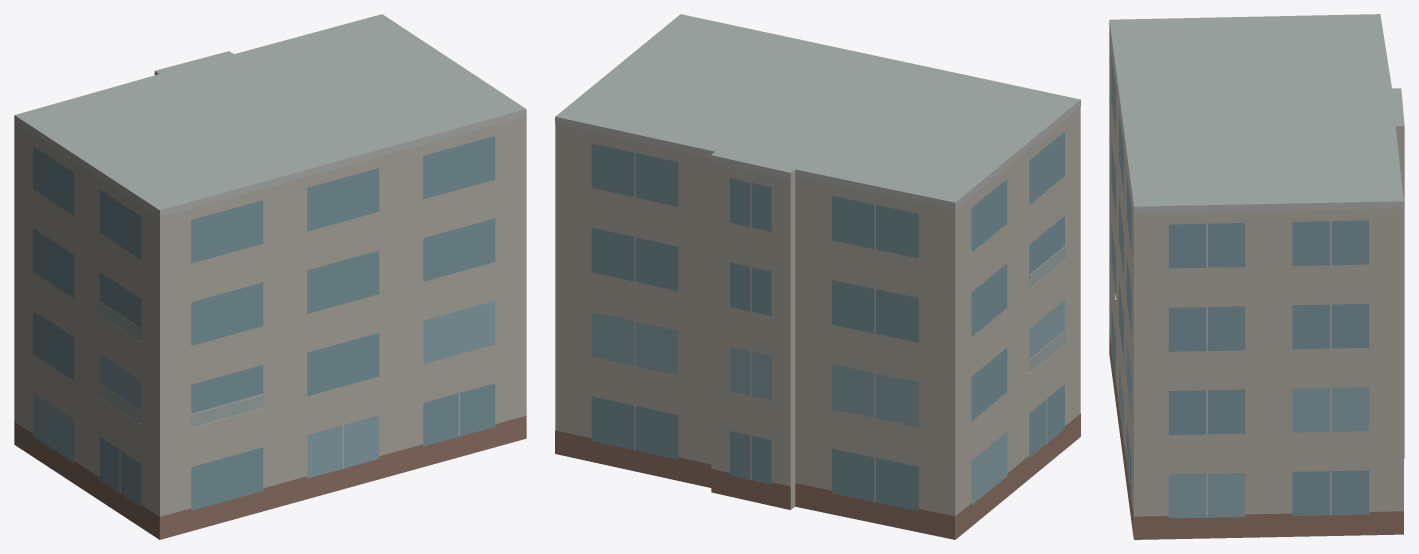
Rendered from survey-upis-32606501.glb.
3 views of the same model, side by side, from view 1: azimuth 30°, elevation 25°; view 2: azimuth 150°, elevation 25°; view 3: azimuth 270°, elevation 25° (orthographic). The views are drawn at different scales.
Parts seen in each view (by area): view 1: survey-upis-32606501.tmp; view 2: survey-upis-32606501.tmp; view 3: survey-upis-32606501.tmp.
Part boxes in pixels (box(x1,y1,x2,y2)): survey-upis-32606501.tmp: box(14, 14, 526, 539); survey-upis-32606501.tmp: box(555, 14, 1080, 539); survey-upis-32606501.tmp: box(1109, 14, 1404, 539).
Size of the model in its own units: 14.26 by 11.5 by 9.25.
